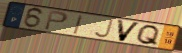6: (23, 7, 46, 29)
I: (72, 14, 86, 35)
J: (93, 18, 115, 39)
P: (43, 10, 69, 32)
Q: (135, 24, 162, 47)
V: (116, 19, 142, 43)
